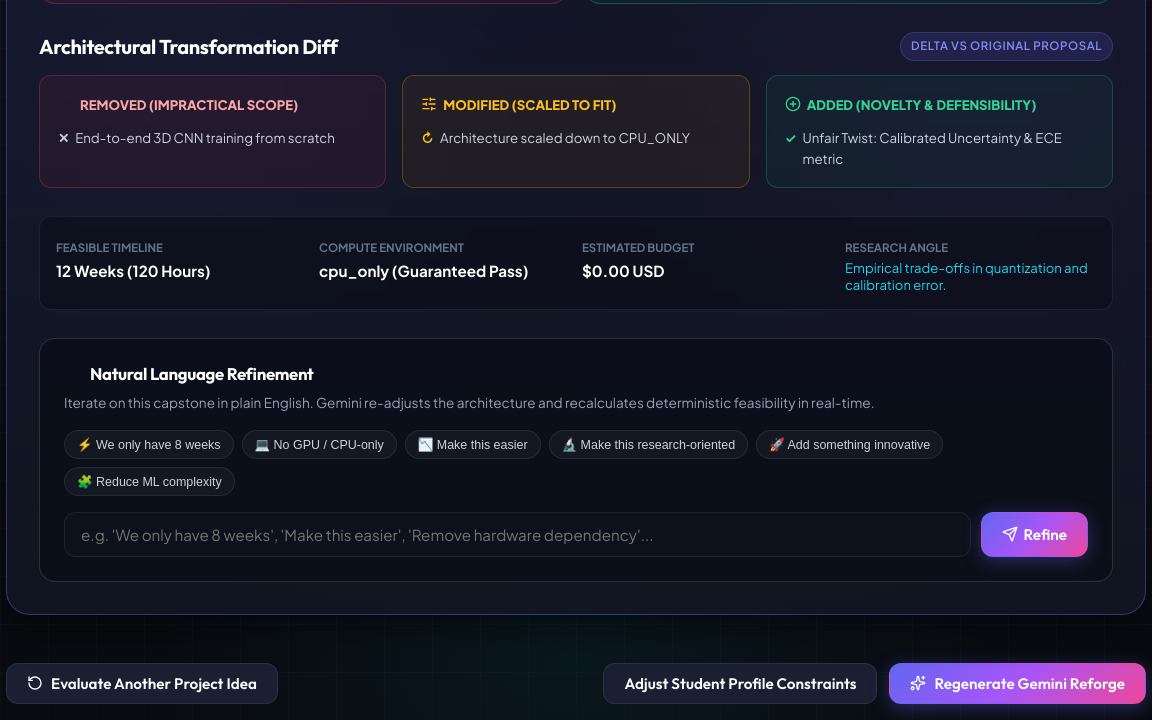
Milestone 2 & 3 - Frontend Test Suite › applies quick action preset chip refinement
The width and height of the screenshot is (1152, 720).
(page scrolled)
Click the button "⚡ We only have 8 weeks" at x=149, y=444, box left=64, top=430, right=234, bottom=459
(page scrolled)
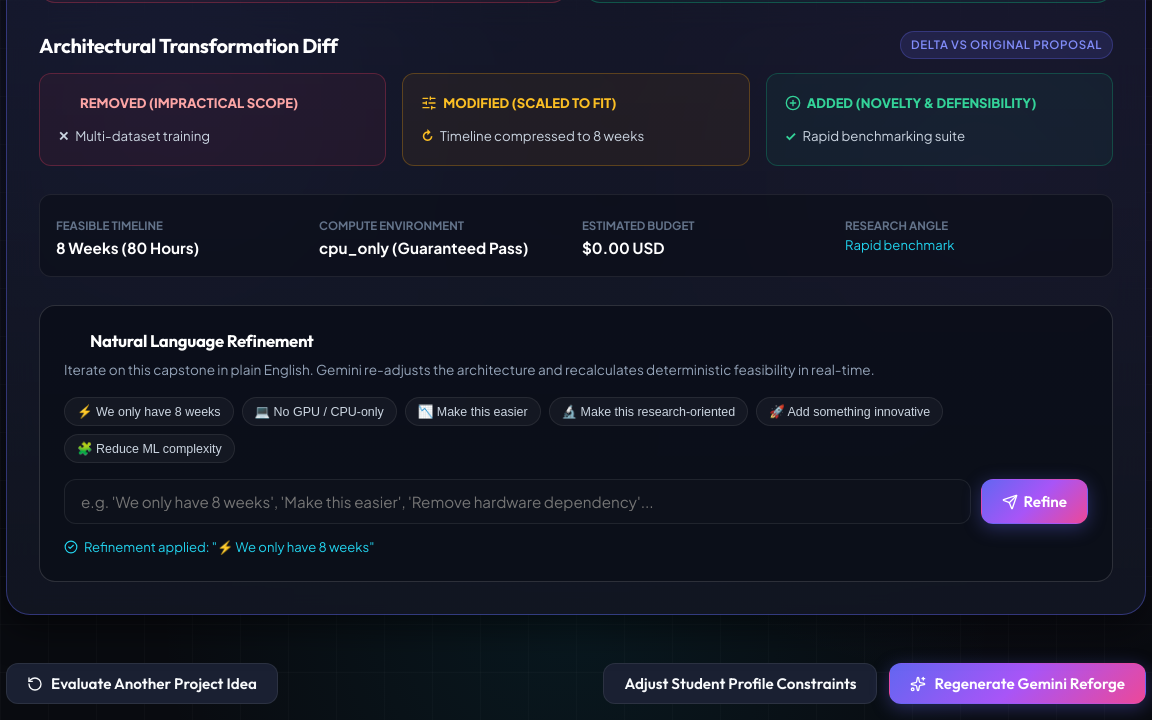
Expected: the text "Refinement applied: \"⚡ We only have 8 weeks\"" is shown, left=64, top=538, right=374, bottom=555
